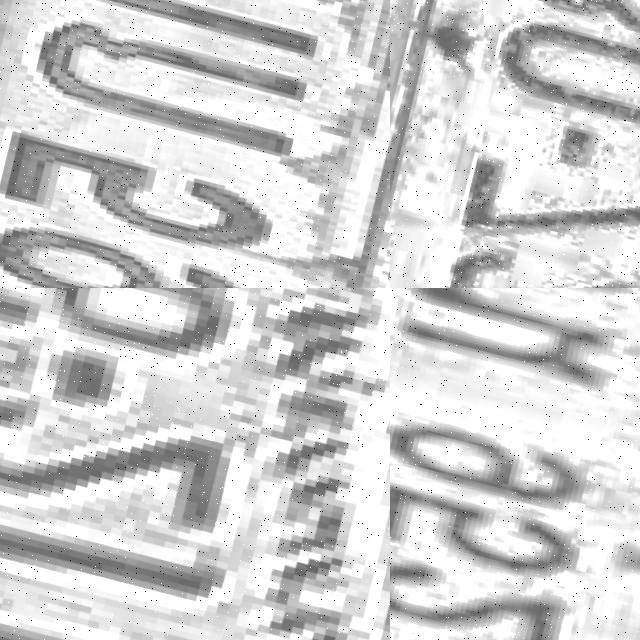license-plate: (0, 288, 390, 640), (0, 0, 390, 288), (390, 288, 640, 640), (390, 0, 640, 288)
